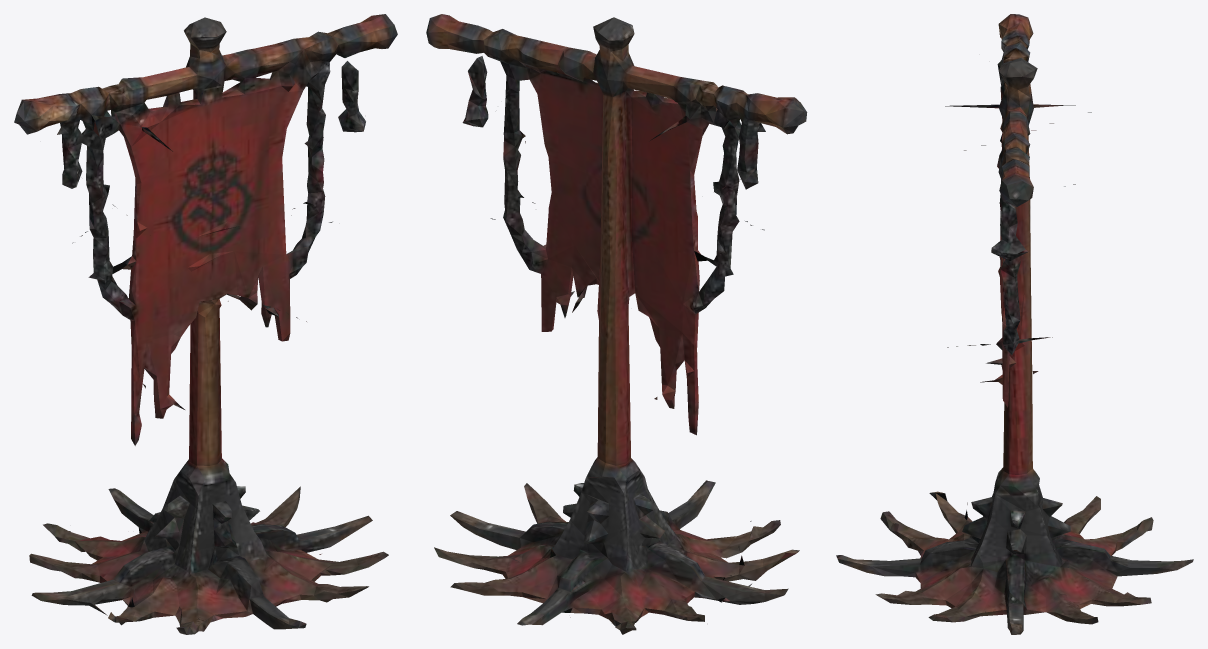
File: banner_stand_chains_lod0.glb
3 renders of one model, left to right at view 1: azimuth 30°, elevation 25°; view 2: azimuth 150°, elevation 25°; view 3: azimuth 270°, elevation 25°, orthographic. The views are drawn at different scales.
Parts seen in each view (by area): view 1: banner_stand_chains_lod0; view 2: banner_stand_chains_lod0; view 3: banner_stand_chains_lod0.
Boxes of the visible parts, x1,y1,x2,y2 form: banner_stand_chains_lod0: [14, 14, 397, 634]; banner_stand_chains_lod0: [426, 14, 807, 634]; banner_stand_chains_lod0: [836, 14, 1193, 634].
Size of the model in its own units: 2.53 by 3.55 by 2.22.
1 material, 1 textured.
